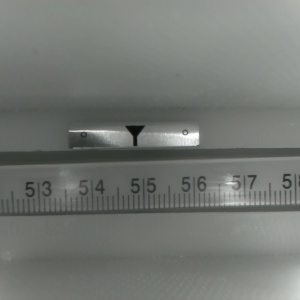3: (41, 180, 52, 197)
4: (94, 180, 105, 194)
5: (78, 180, 89, 195), (180, 176, 190, 192), (146, 177, 156, 193), (282, 173, 292, 189), (24, 181, 34, 197), (230, 176, 240, 190), (130, 178, 139, 193)
6: (196, 176, 206, 192)
7: (246, 175, 257, 190)
finger: (123, 125, 145, 147)
